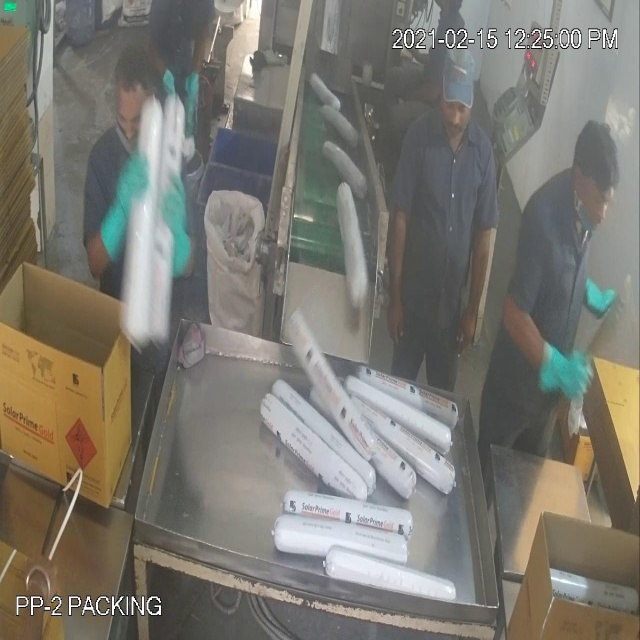Guantes: (90, 148, 151, 267), (533, 326, 595, 409), (154, 173, 193, 286)
Sin_guantes: (458, 202, 499, 362), (386, 191, 414, 353)
